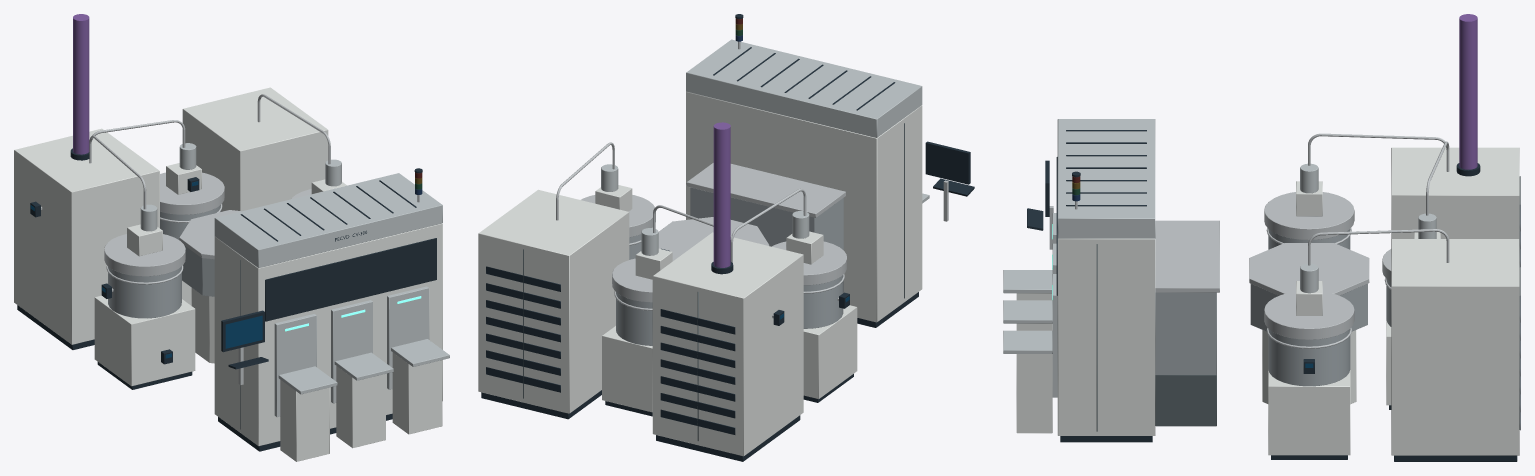
Rendered from fab1-tool-cvd.glb.
3 renders of one model, left to right at view 1: azimuth 30°, elevation 25°; view 2: azimuth 150°, elevation 25°; view 3: azimuth 270°, elevation 25°, orthographic. The views are drawn at different scales.
Visible parts, largest first — view 1: TOOL_CVD_EFEM, TOOL_CVD_Cabinets, TOOL_CVD_LoadPorts, TOOL_CVD_PM1, TOOL_CVD_PM2, TOOL_CVD_TransferChamber, TOOL_CVD_Exhaust, TOOL_CVD_RFFeeds, TOOL_CVD_Operator, TOOL_HMI_Screen, TOOL_CVD_PM3; view 2: TOOL_CVD_Cabinets, TOOL_CVD_EFEM, TOOL_CVD_PM1, TOOL_CVD_PM2, TOOL_CVD_LoadLocks, TOOL_CVD_Exhaust, TOOL_CVD_PM3, TOOL_CVD_Operator, TOOL_CVD_TransferChamber, TOOL_CVD_RFFeeds; view 3: TOOL_CVD_Cabinets, TOOL_CVD_EFEM, TOOL_CVD_PM3, TOOL_CVD_LoadLocks, TOOL_CVD_LoadPorts, TOOL_CVD_TransferChamber, TOOL_CVD_PM1, TOOL_CVD_Exhaust, TOOL_CVD_RFFeeds, TOOL_CVD_PM2, TOOL_CVD_Operator.
Boxes of the visible parts, x1=… form: TOOL_CVD_EFEM: x1=214, y1=173, x2=442, y2=451; TOOL_CVD_Cabinets: x1=14, y1=87, x2=328, y2=349; TOOL_CVD_LoadPorts: x1=274, y1=286, x2=449, y2=461; TOOL_CVD_PM1: x1=94, y1=204, x2=195, y2=389; TOOL_CVD_PM2: x1=160, y1=143, x2=224, y2=305; TOOL_CVD_TransferChamber: x1=179, y1=210, x2=240, y2=363; TOOL_CVD_Exhaust: x1=70, y1=14, x2=89, y2=160; TOOL_CVD_RFFeeds: x1=89, y1=94, x2=330, y2=209; TOOL_CVD_Operator: x1=221, y1=310, x2=268, y2=385; TOOL_HMI_Screen: x1=225, y1=315, x2=262, y2=348; TOOL_CVD_PM3: x1=291, y1=159, x2=346, y2=199; TOOL_CVD_Cabinets: x1=478, y1=189, x2=803, y2=461; TOOL_CVD_EFEM: x1=686, y1=39, x2=922, y2=327; TOOL_CVD_PM1: x1=772, y1=211, x2=857, y2=402; TOOL_CVD_PM2: x1=602, y1=228, x2=675, y2=416; TOOL_CVD_LoadLocks: x1=686, y1=163, x2=845, y2=292; TOOL_CVD_Exhaust: x1=711, y1=122, x2=733, y2=274; TOOL_CVD_PM3: x1=581, y1=164, x2=655, y2=259; TOOL_CVD_Operator: x1=925, y1=141, x2=974, y2=221; TOOL_CVD_TransferChamber: x1=658, y1=217, x2=769, y2=258; TOOL_CVD_RFFeeds: x1=556, y1=142, x2=806, y2=262; TOOL_CVD_Cabinets: x1=1391, y1=147, x2=1520, y2=461; TOOL_CVD_EFEM: x1=1056, y1=119, x2=1155, y2=442; TOOL_CVD_PM3: x1=1264, y1=263, x2=1354, y2=459; TOOL_CVD_LoadLocks: x1=1155, y1=220, x2=1219, y2=426; TOOL_CVD_LoadPorts: x1=1003, y1=213, x2=1057, y2=433; TOOL_CVD_TransferChamber: x1=1249, y1=243, x2=1369, y2=404; TOOL_CVD_PM1: x1=1264, y1=163, x2=1354, y2=249; TOOL_CVD_Exhaust: x1=1456, y1=14, x2=1480, y2=176; TOOL_CVD_RFFeeds: x1=1308, y1=133, x2=1449, y2=265; TOOL_CVD_PM2: x1=1382, y1=213, x2=1440, y2=409; TOOL_CVD_Operator: x1=1027, y1=160, x2=1053, y2=249.
Size of the model in its own units: 3.38 by 3.55 by 5.04.
Materials: 3 (1 with a texture image).
